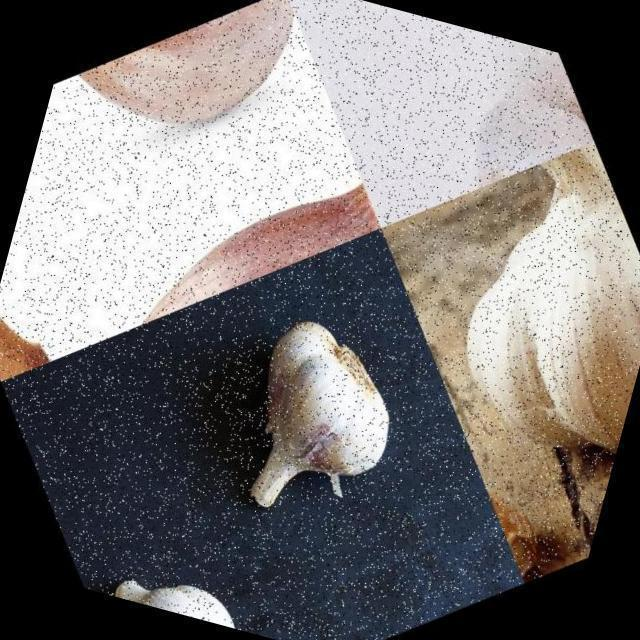garlic: (339, 100, 640, 534), (72, 108, 392, 396), (154, 263, 448, 560), (32, 0, 339, 224), (401, 35, 609, 232), (86, 517, 294, 639)
